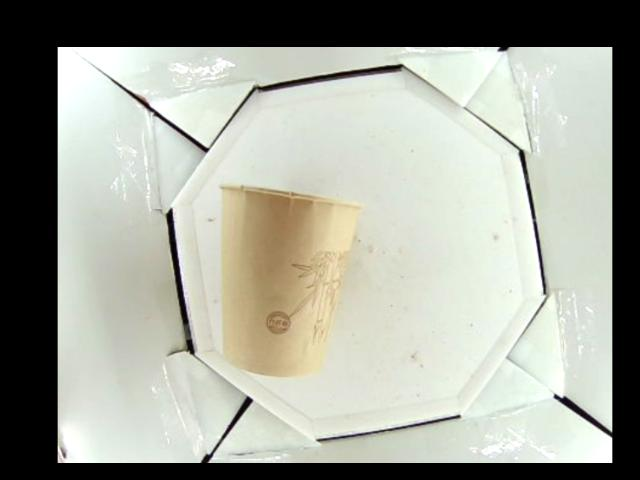Cup: (218, 183, 360, 376)
